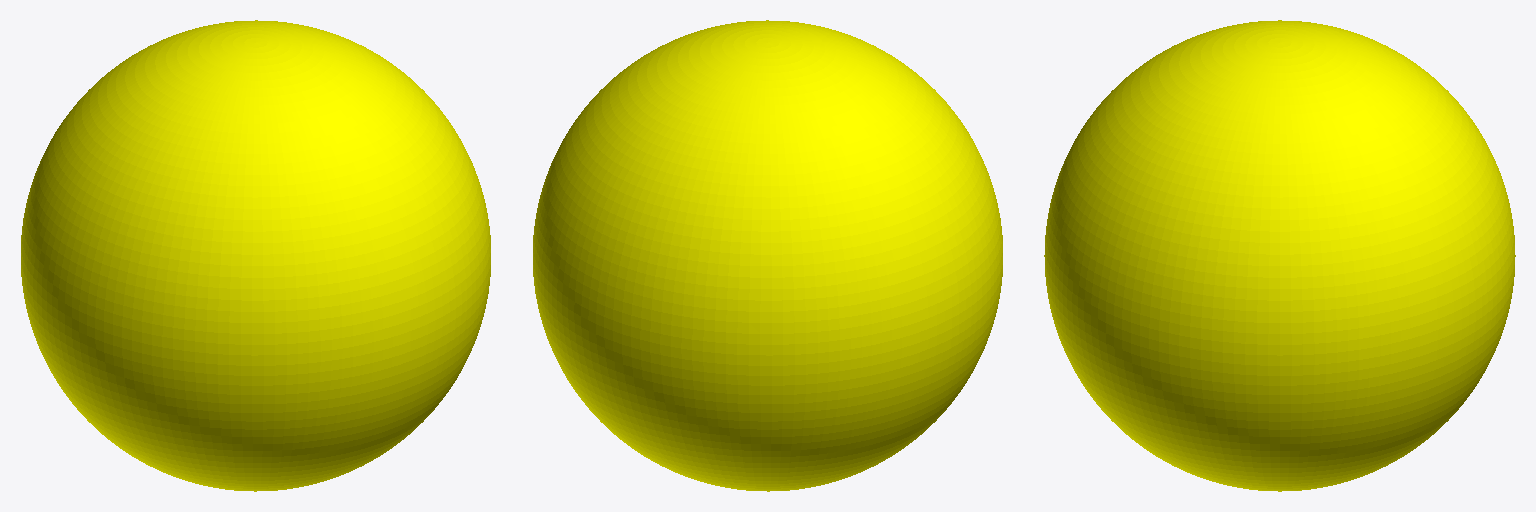
Rendered from bulb.obj.
3 views of the same model, side by side, from view 1: azimuth 30°, elevation 25°; view 2: azimuth 150°, elevation 25°; view 3: azimuth 270°, elevation 25° (orthographic).
Visible parts, largest first — view 1: 球; view 2: 球; view 3: 球.
Part boxes in pixels (bbox=[...]): 球: bbox=[21, 20, 490, 491]; 球: bbox=[533, 20, 1002, 491]; 球: bbox=[1044, 20, 1515, 491].
Size of the model in its own units: 2 by 2 by 2.